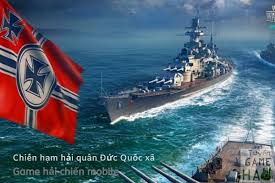tau_muctieu: (106, 30, 230, 116)
